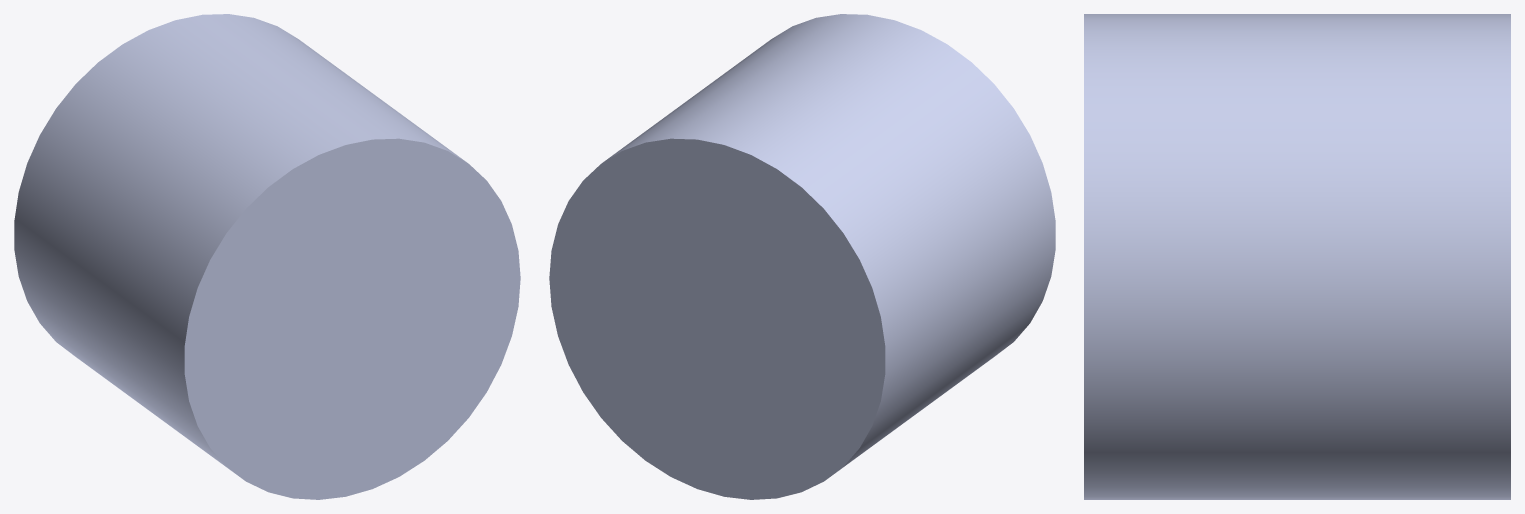
3 renders of one model, left to right at view 1: azimuth 30°, elevation 25°; view 2: azimuth 150°, elevation 25°; view 3: azimuth 270°, elevation 25°, orthographic. The views are drawn at different scales.
Parts seen in each view (by area): view 1: Body1; view 2: Body1; view 3: Body1.
Part boxes in pixels (box(x1,y1,x2,y2)): Body1: box(14, 14, 520, 499); Body1: box(549, 14, 1055, 499); Body1: box(1084, 14, 1510, 499).
Bounding box in the file's own units: 0.0569 × 0.057 × 0.05.
